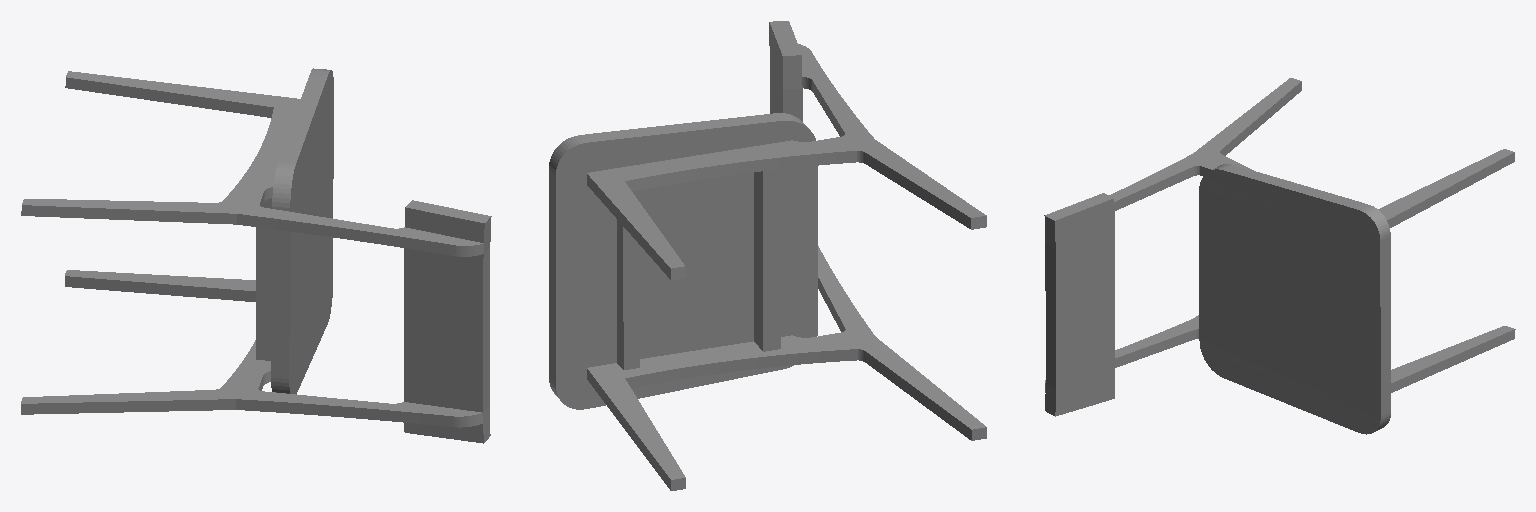
robot.urdf — cube.urdf:
<?xml version="0.0" ?> 
<robot name="cube.urdf"> 
<link name="legobrick"> 
<contact> 
<lateral_friction value="1.0"/>
<rolling_friction value="0.0"/>
<contact_cfm value="0.0"/>
<contact_erp value="1.0"/>
</contact> 
<inertial> 
<origin rpy="0 0 0" xyz="0.0 0.0 0.0"/> 
<mass value="0.1"/> 
<inertia ixx="1" ixy="0" ixz="0" iyy="1" iyz="0" izz="1"/> 
</inertial> 
<visual> 
<origin rpy="1.570796 0 0" xyz="-0.007550266998341642 0.007244754560530685 1.3033996683245737e-05"/> 
<geometry> 
<mesh filename="7b12801f2f4e5176d28af681b592671c.obj" scale="1 1 1"/> 
</geometry> 
<material name="yellow"> 
<color rgba="0.6 0.6 0.6 1"/> 
</material> 
</visual> 
<collision> 
<origin rpy="1.570796 0 0" xyz="-0.007550266998341642 0.007244754560530685 1.3033996683245737e-05"/> 
<geometry> 
<mesh filename="7b12801f2f4e5176d28af681b592671c_col.obj" scale="1 1 1"/> 
</geometry> 
</collision> 
</link> 
</robot>

--- Render facts (derived) ---
3 views of the same robot in one strip: view 1: azimuth 30°, elevation 25°; view 2: azimuth 150°, elevation 25°; view 3: azimuth 270°, elevation 25° (orthographic).
Model cube.urdf with 1 links and 0 joints (none), rooted at legobrick, posed every joint at zero.
Visible links, largest first — view 1: legobrick; view 2: legobrick; view 3: legobrick.
Boxes of the visible links, x1=… form: legobrick: x1=21, y1=68, x2=491, y2=443; legobrick: x1=549, y1=21, x2=986, y2=490; legobrick: x1=1044, y1=78, x2=1515, y2=434.
Bounding box of the posed robot: 0.045 × 0.0567 × 0.0297 m (x, y, z).
1 mesh visuals loaded from 1 distinct referenced files (1 OBJ).